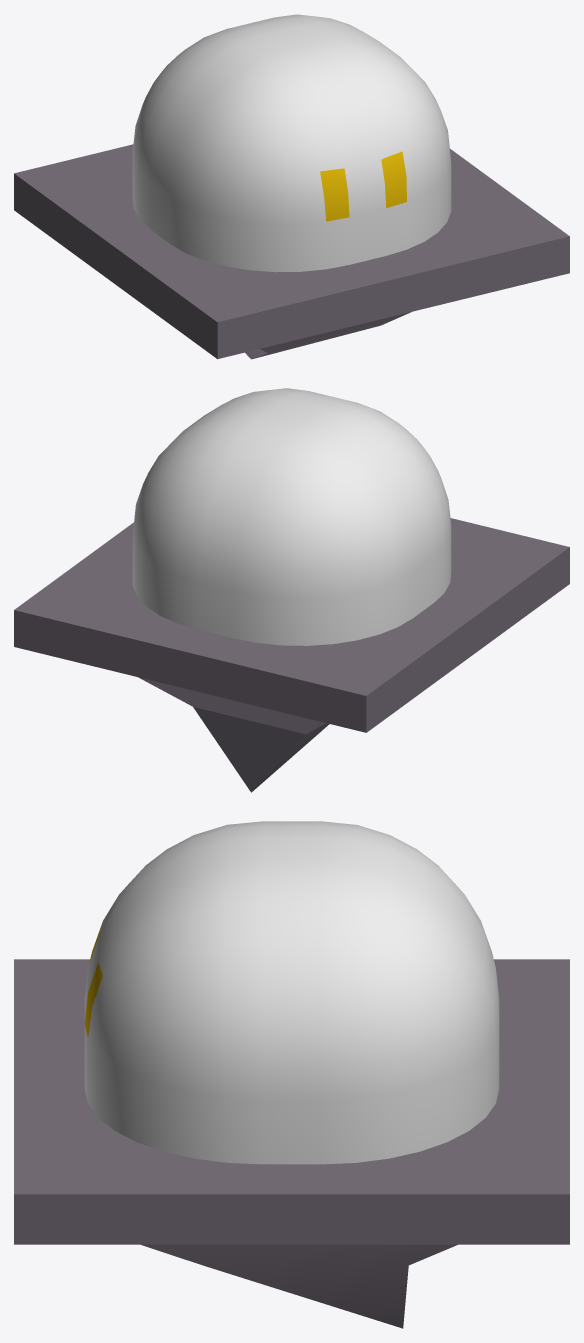
File: Ghost.fbx
3 views of the same model, one above another, from view 1: azimuth 30°, elevation 25°; view 2: azimuth 150°, elevation 25°; view 3: azimuth 270°, elevation 25° (orthographic). The views are drawn at different scales.
Parts seen in each view (by area): view 1: Cube; view 2: Cube; view 3: Cube.
Part boxes in pixels (<box>): Cube: <box>14,14,569,359</box>; Cube: <box>14,388,569,792</box>; Cube: <box>14,821,569,1328</box>.
Bounding box in the file's own units: 200 × 190 × 200.
